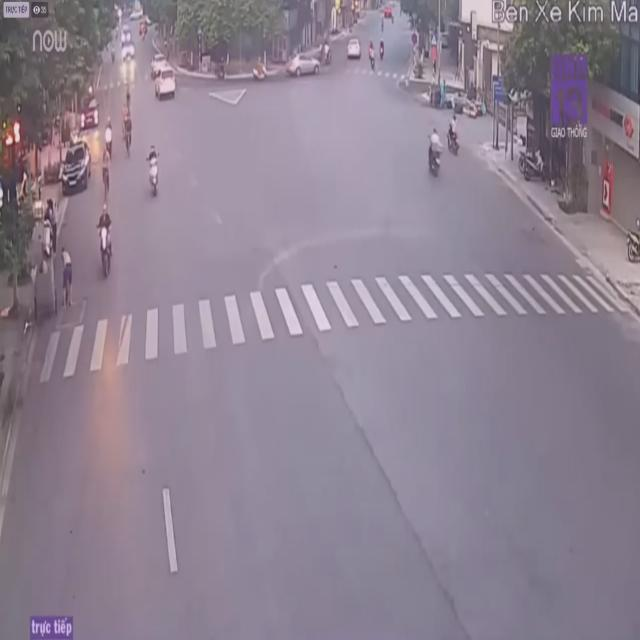car: (288, 53, 320, 83)
motorbike: (94, 206, 115, 282), (144, 144, 160, 200), (426, 125, 442, 178), (446, 115, 461, 157)
